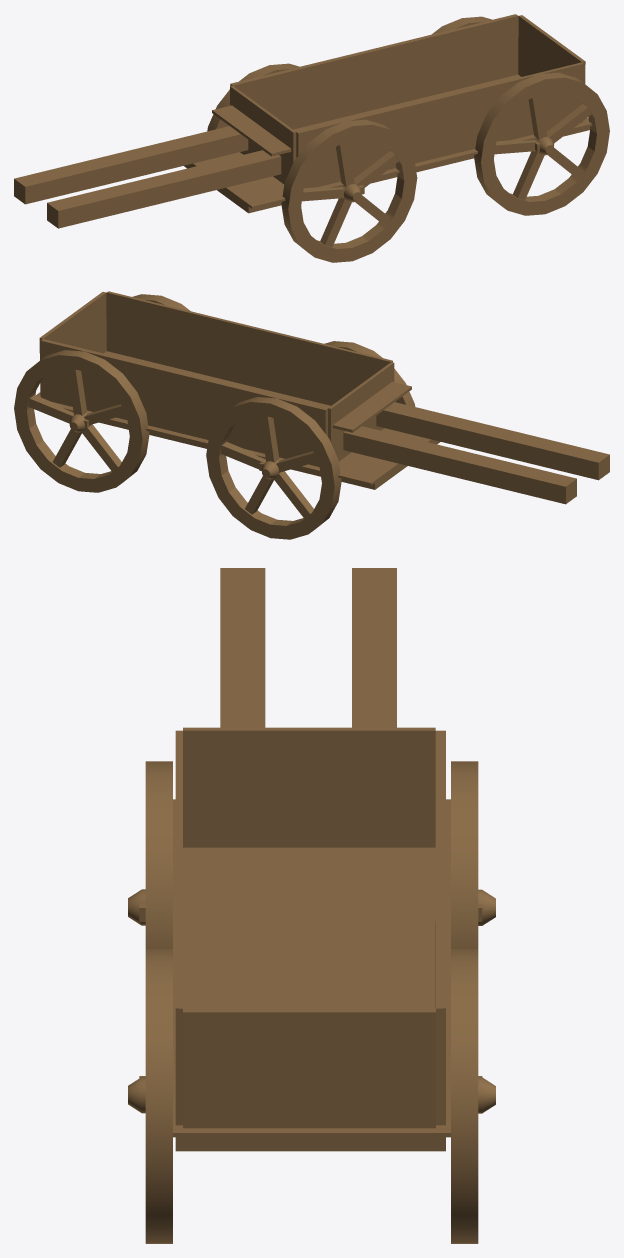
The model's file is Wagon_Hazard.fbx.
3 views of the same model, one above another, from view 1: azimuth 30°, elevation 25°; view 2: azimuth 150°, elevation 25°; view 3: azimuth 270°, elevation 25° (orthographic). The views are drawn at different scales.
Parts seen in each view (by area): view 1: pCube1, Wheel1, Wheel2, pCube3, pCube2, Wheel3, Wheel4; view 2: pCube1, Wheel3, Wheel4, pCube2, pCube3, Wheel1, Wheel2; view 3: pCube1, Wheel2, Wheel4, pCube3, pCube2, Wheel3, Wheel1.
Boxes of the visible parts, x1,y1,x2,y2 form: pCube1: [184, 14, 592, 213]; Wheel1: [281, 119, 417, 262]; Wheel2: [474, 72, 609, 215]; pCube3: [47, 150, 281, 228]; pCube2: [14, 126, 248, 204]; Wheel3: [207, 63, 299, 131]; Wheel4: [432, 16, 491, 34]; pCube1: [36, 291, 440, 489]; Wheel3: [206, 397, 341, 539]; Wheel4: [14, 350, 149, 492]; pCube2: [343, 426, 576, 504]; pCube3: [376, 402, 609, 480]; Wheel1: [324, 341, 415, 406]; Wheel2: [132, 294, 190, 311]; pCube1: [139, 727, 482, 1151]; Wheel2: [128, 949, 172, 1243]; Wheel4: [451, 949, 495, 1243]; pCube3: [220, 568, 265, 727]; pCube2: [352, 568, 396, 727]; Wheel3: [451, 761, 495, 948]; Wheel1: [128, 761, 172, 948].
Bounding box in the file's own units: 23.93 × 5.8 × 7.18.
